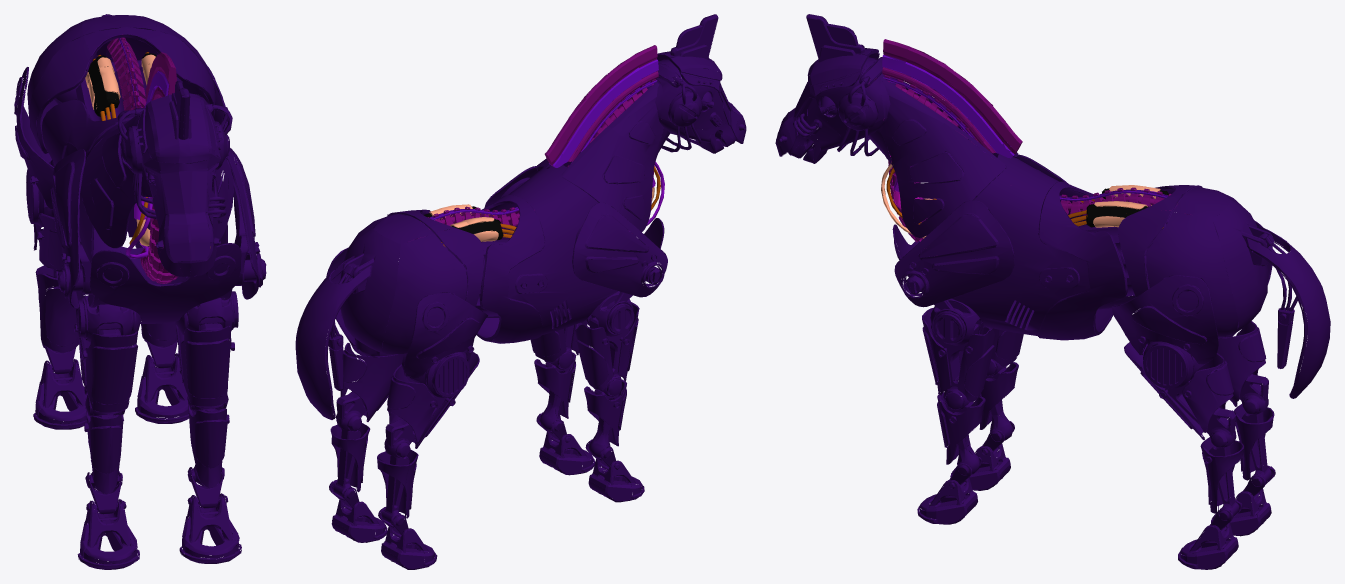
Rendered from paycer_small8.glb.
The picture shows the model from 3 angles, left to right: view 1: azimuth 30°, elevation 25°; view 2: azimuth 150°, elevation 25°; view 3: azimuth 270°, elevation 25°; orthographic projection. The views are drawn at different scales.
Parts seen in each view (by area): view 1: paycer nft v122; view 2: paycer nft v122; view 3: paycer nft v122.
Boxes of the visible parts, x1,y1,x2,y2 form: paycer nft v122: (14,14,266,569); paycer nft v122: (295,14,746,569); paycer nft v122: (775,14,1330,569).
Bounding box in the file's own units: 24.58 × 43.91 × 48.22.
